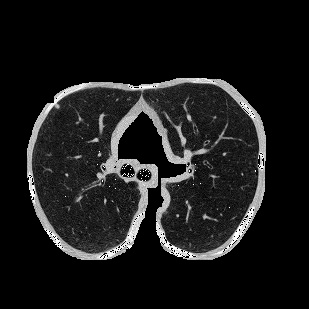PN: (55, 104, 59, 108)
